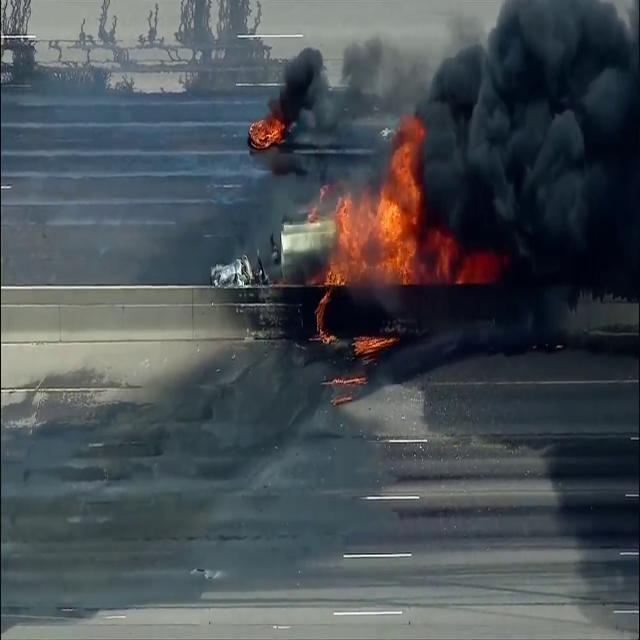Fire: (303, 135, 481, 286)
Smoke: (227, 2, 640, 244), (436, 1, 640, 323)
